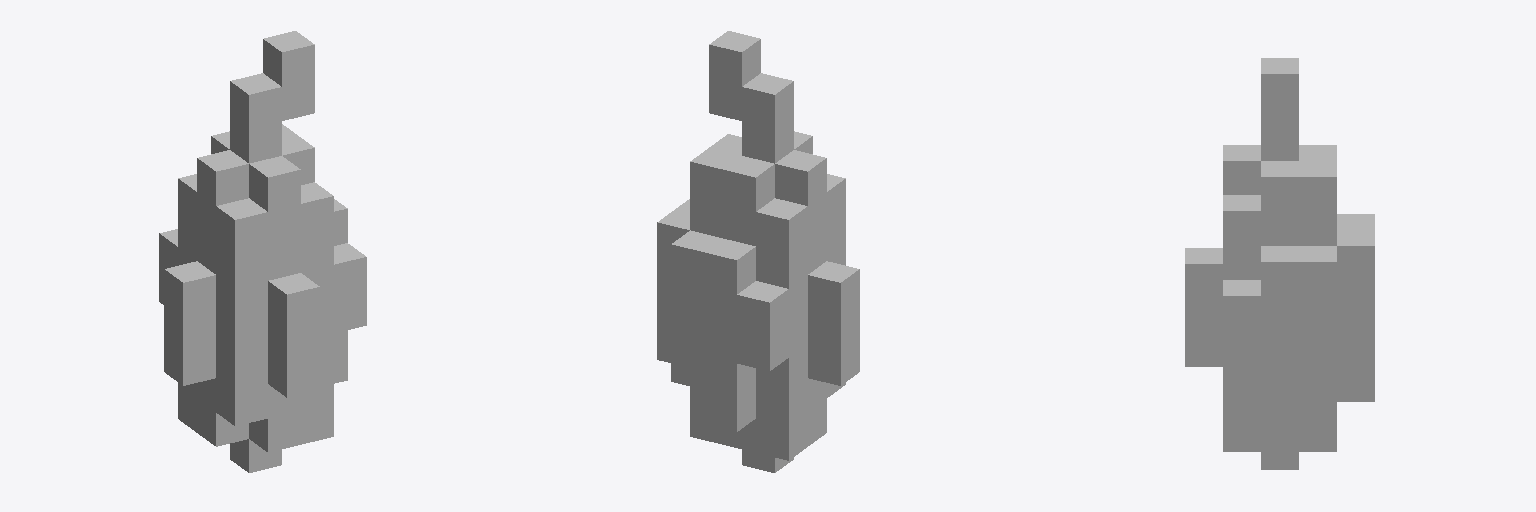
Rendered from pera.obj.
3 views of the same model, side by side, from view 1: azimuth 30°, elevation 25°; view 2: azimuth 150°, elevation 25°; view 3: azimuth 270°, elevation 25° (orthographic).
Visible parts, largest first — view 1: pera; view 2: pera; view 3: pera.
Part boxes in pixels (x1,y1,x2,y2): pera: (159,31,366,472); pera: (657,31,859,472); pera: (1185,58,1374,469).
Size of the model in its own units: 5 by 12 by 5.